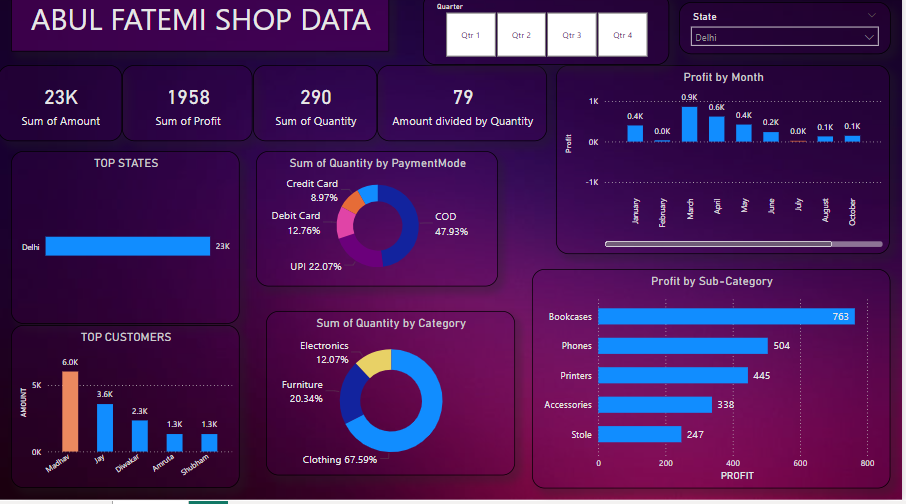

The page's visual inventory and layout, read from the dashboard file:
{"tool":"powerbi","page":{"name":"Page 1","canvas":[1280,720],"ordinal":0},"visuals":[{"type":"textbox","box":[18.2,0,536.2,83.3],"z":0},{"type":"clusteredColumnChart","title":"Profit by Month","fields":{"Y":["Details.Profit"],"Category":["Orders.Order Date.Variation.Date Hierarchy.Month"]},"box":[716.8,102.4,548,267.4],"z":1000},{"type":"barChart","title":"Profit by Sub-Category","fields":{"Category":["Details.Sub-Category"],"Y":["Details.Profit"]},"box":[756.6,390.6,508.2,311],"z":2000},{"type":"donutChart","fields":{"Category":["Details.Category"],"Y":["Details.Quantity"]},"box":[379.3,451.3,352.7,233.2],"z":3000},{"type":"donutChart","fields":{"Y":["Details.Quantity"],"Category":["Details.PaymentMode"]},"box":[366,223.8,343.2,191.5],"z":4000},{"type":"card","fields":{"Values":["Details.Amount"]},"box":[0,101.7,176.1,107.8],"z":5000},{"type":"card","fields":{"Values":["Details.Profit"]},"box":[176.1,101.7,185.2,107.8],"z":6000},{"type":"card","fields":{"Values":["Details.Quantity"]},"box":[361.4,101.7,176.1,107.8],"z":7000},{"type":"card","fields":{"Values":["Details.Amount divided by Quantity"]},"box":[537.5,101.7,168.5,107.8],"z":8000},{"type":"barChart","title":"TOP STATES","fields":{"Category":["Orders.State"],"Y":["Details.Amount"]},"box":[19,223.8,324.3,244.6],"z":9000},{"type":"clusteredColumnChart","title":"TOP CUSTOMERS","fields":{"Category":["Orders.CustomerName"],"Y":["Details.Amount"]},"box":[19,470.3,324.3,231.3],"z":10000},{"type":"slicer","fields":{"Values":["Orders.Order Date.Variation.Date Hierarchy.Quarter"]},"box":[603,0,348.9,102.4],"z":11000},{"type":"slicer","fields":{"Values":["Orders.State"]},"box":[965.2,13.3,299.6,74],"z":12000}]}

Visuals, with their boxes in screenshot pixels (x1, y1, x2, y2), scaled from the page's 1280x720 canvas onto the 906x504 screenshot:
textbox: box(13, 0, 392, 58)
"Profit by Month" clusteredColumnChart: box(507, 72, 895, 259)
"Profit by Sub-Category" barChart: box(536, 273, 895, 491)
donutChart - Details.Category x Details.Quantity: box(268, 316, 518, 479)
donutChart - Details.Quantity x Details.PaymentMode: box(259, 157, 502, 291)
card - Details.Amount: box(0, 71, 125, 147)
card - Details.Profit: box(125, 71, 256, 147)
card - Details.Quantity: box(256, 71, 380, 147)
card - Details.Amount divided by Quantity: box(380, 71, 500, 147)
"TOP STATES" barChart: box(13, 157, 243, 328)
"TOP CUSTOMERS" clusteredColumnChart: box(13, 329, 243, 491)
slicer - Orders.Order Date.Variation.Date Hierarchy.Quarter: box(427, 0, 674, 72)
slicer - Orders.State: box(683, 9, 895, 61)
